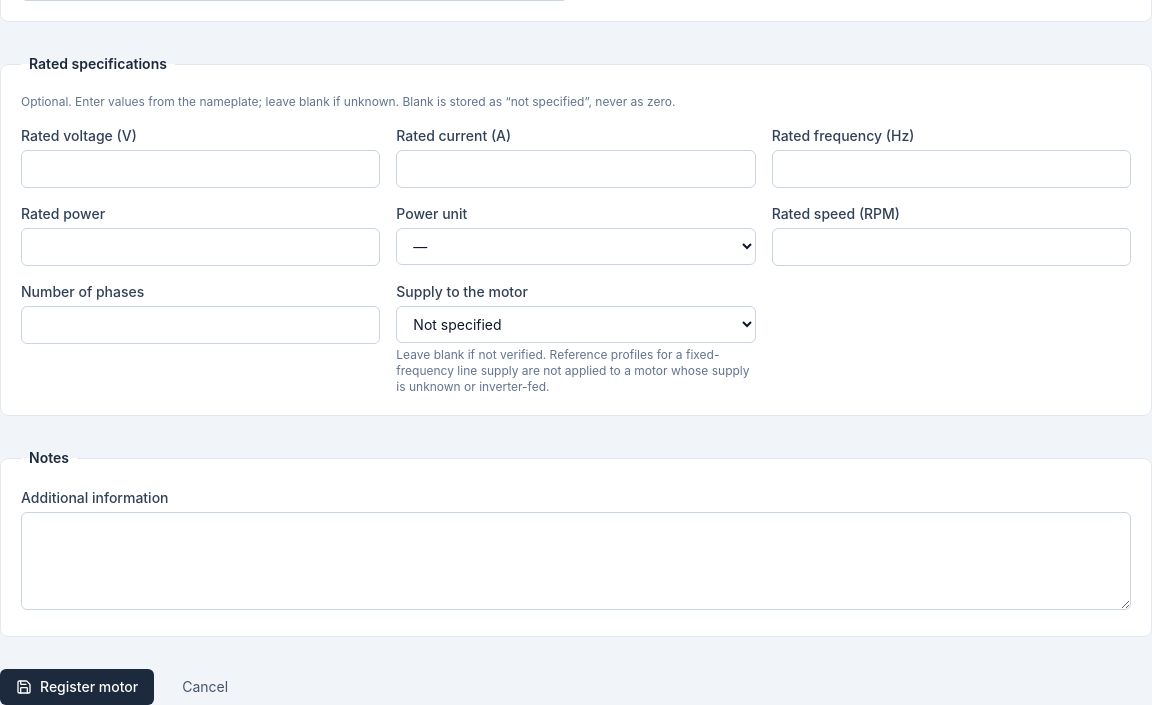
Test case: MotorForm › shows field errors and does not submit when required fields are empty
The width and height of the screenshot is (1152, 705).
(page scrolled)
Click the button "Register motor": (77, 687) 0,669 -> 154,704
(page scrolled)
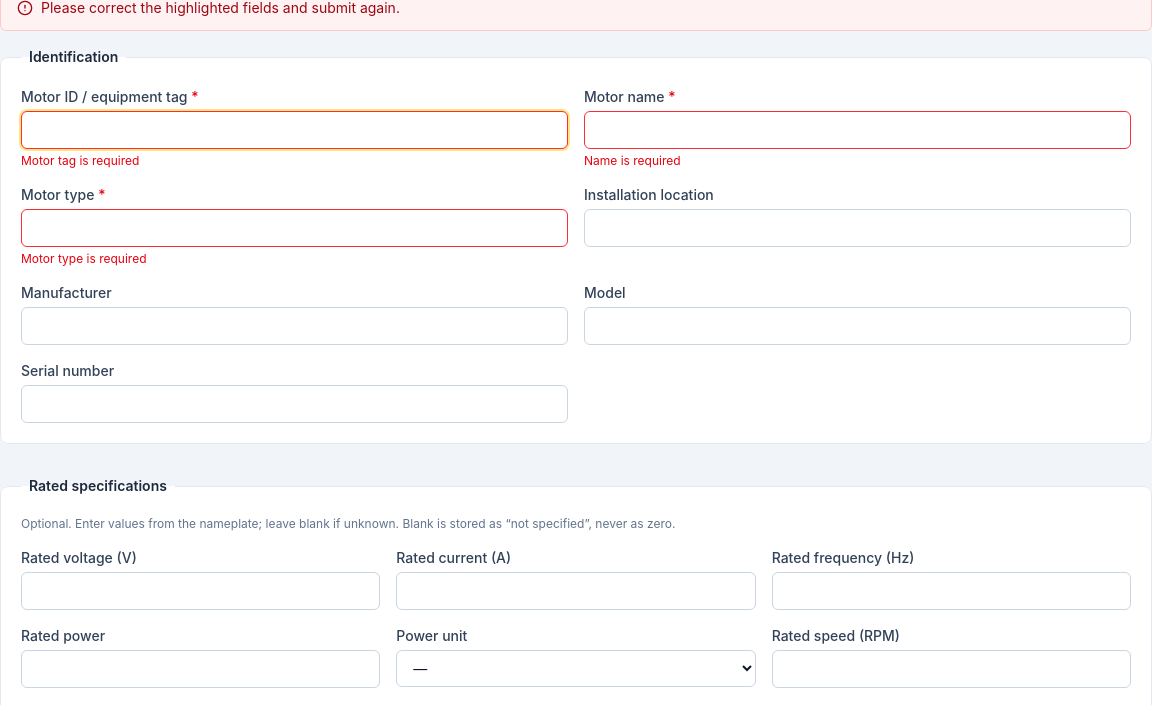
Now the text "Motor tag is required" is shown, box 21,153 -> 139,168
